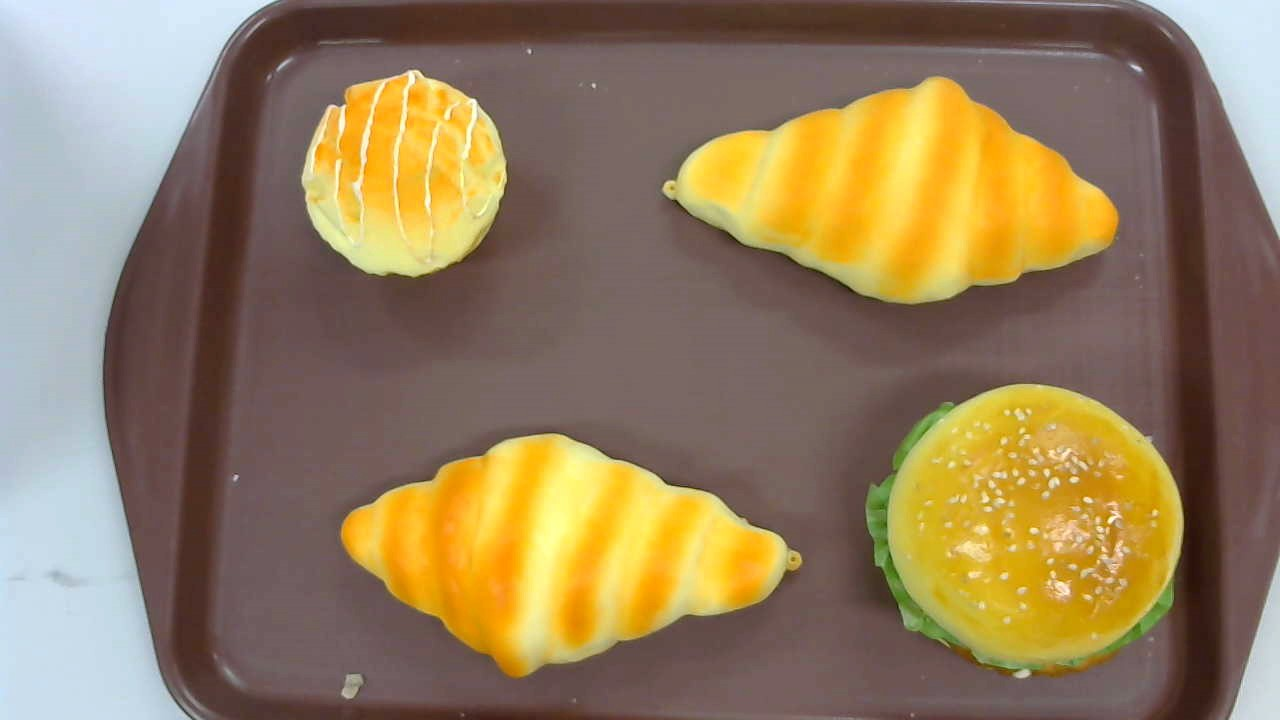croissant: (340, 432, 803, 680), (660, 74, 1120, 307)
cupcake: (300, 69, 506, 278)
hamburger: (866, 382, 1183, 680)
